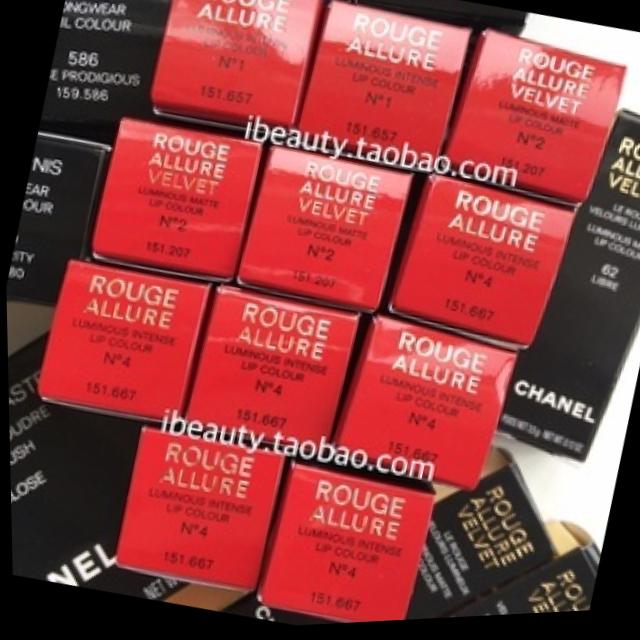box: (493, 116, 640, 469), (6, 331, 182, 603), (326, 316, 517, 496), (384, 178, 573, 357), (436, 36, 625, 215), (179, 286, 358, 457), (293, 5, 472, 174), (235, 148, 412, 317), (34, 258, 210, 427), (86, 117, 262, 286), (112, 427, 285, 598), (253, 463, 432, 626), (404, 447, 554, 624), (148, 0, 323, 139), (5, 130, 113, 310), (38, 0, 171, 142), (443, 527, 598, 622)
